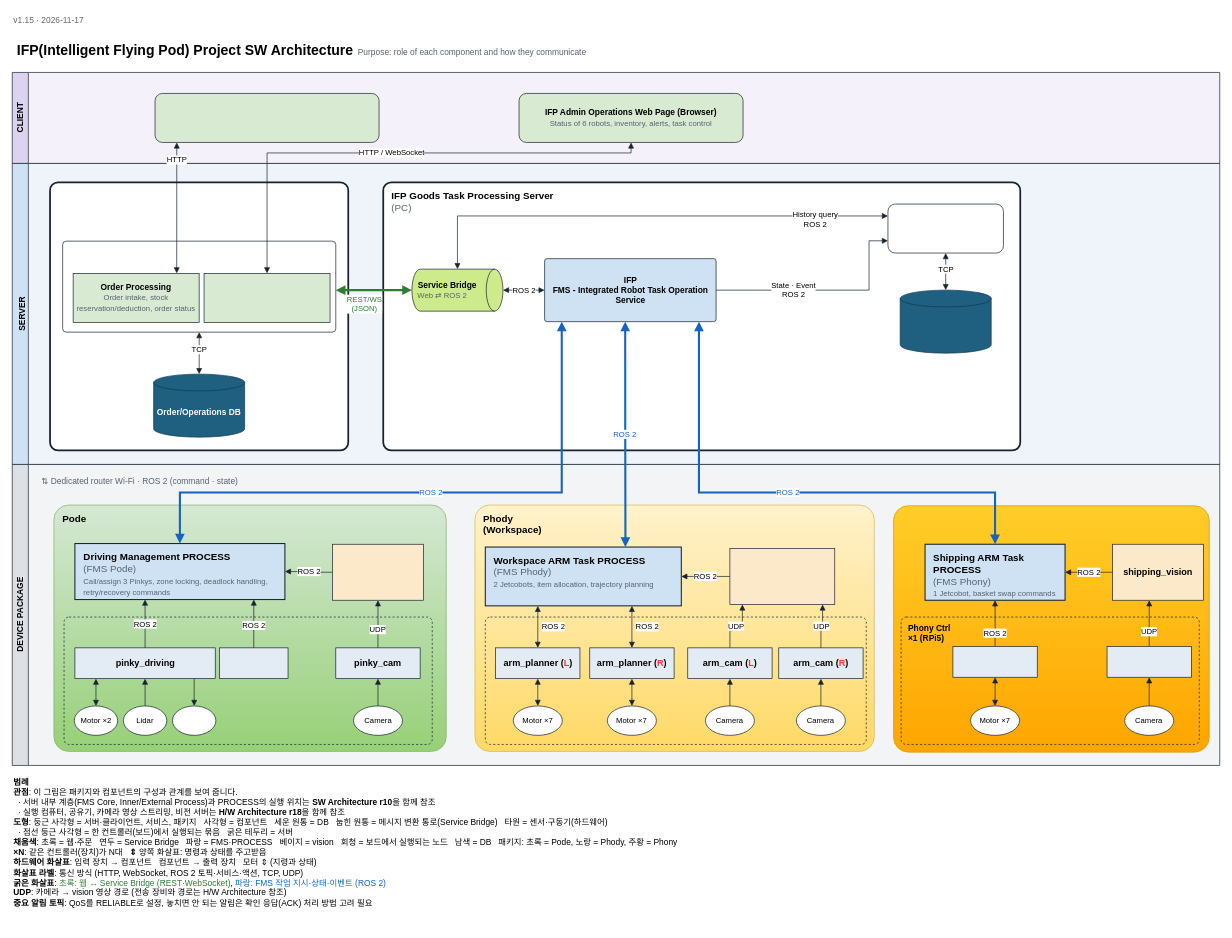
Image size: 1232x938. Some labels were removed from this diagram. The shapes that lost their labels are listed below. From the top down, each one's box as (x1, y1, x2, y2) in pixels, then its label:
(154, 93, 379, 142): IFP User Order Web Page (Browser) Product search, ordering, progress tracking
(887, 203, 1003, 253): FMS Log Service State/event logging
(62, 240, 336, 332): Central Order/ Management Service
(203, 273, 330, 322): Admin Order/Operations Status, alerts, task control
(49, 181, 349, 451): IFP Order Intake/ Management Server (DOCKER)
(899, 289, 991, 353): State/Event /Robot Data DB
(332, 544, 424, 600): driving_vision
(729, 548, 835, 604): goods_vision
(893, 505, 1209, 752): Phony (Shipping Area)
(63, 616, 432, 744): Pode Ctrl ×3 (RPi4)
(219, 647, 288, 679): pinky_dock
(485, 616, 866, 744): Phody Ctrl ×2 (RPi5)
(952, 646, 1037, 677): arm_planner
(1106, 646, 1191, 677): arm_cam
(172, 705, 216, 735): LED /Buzzer
